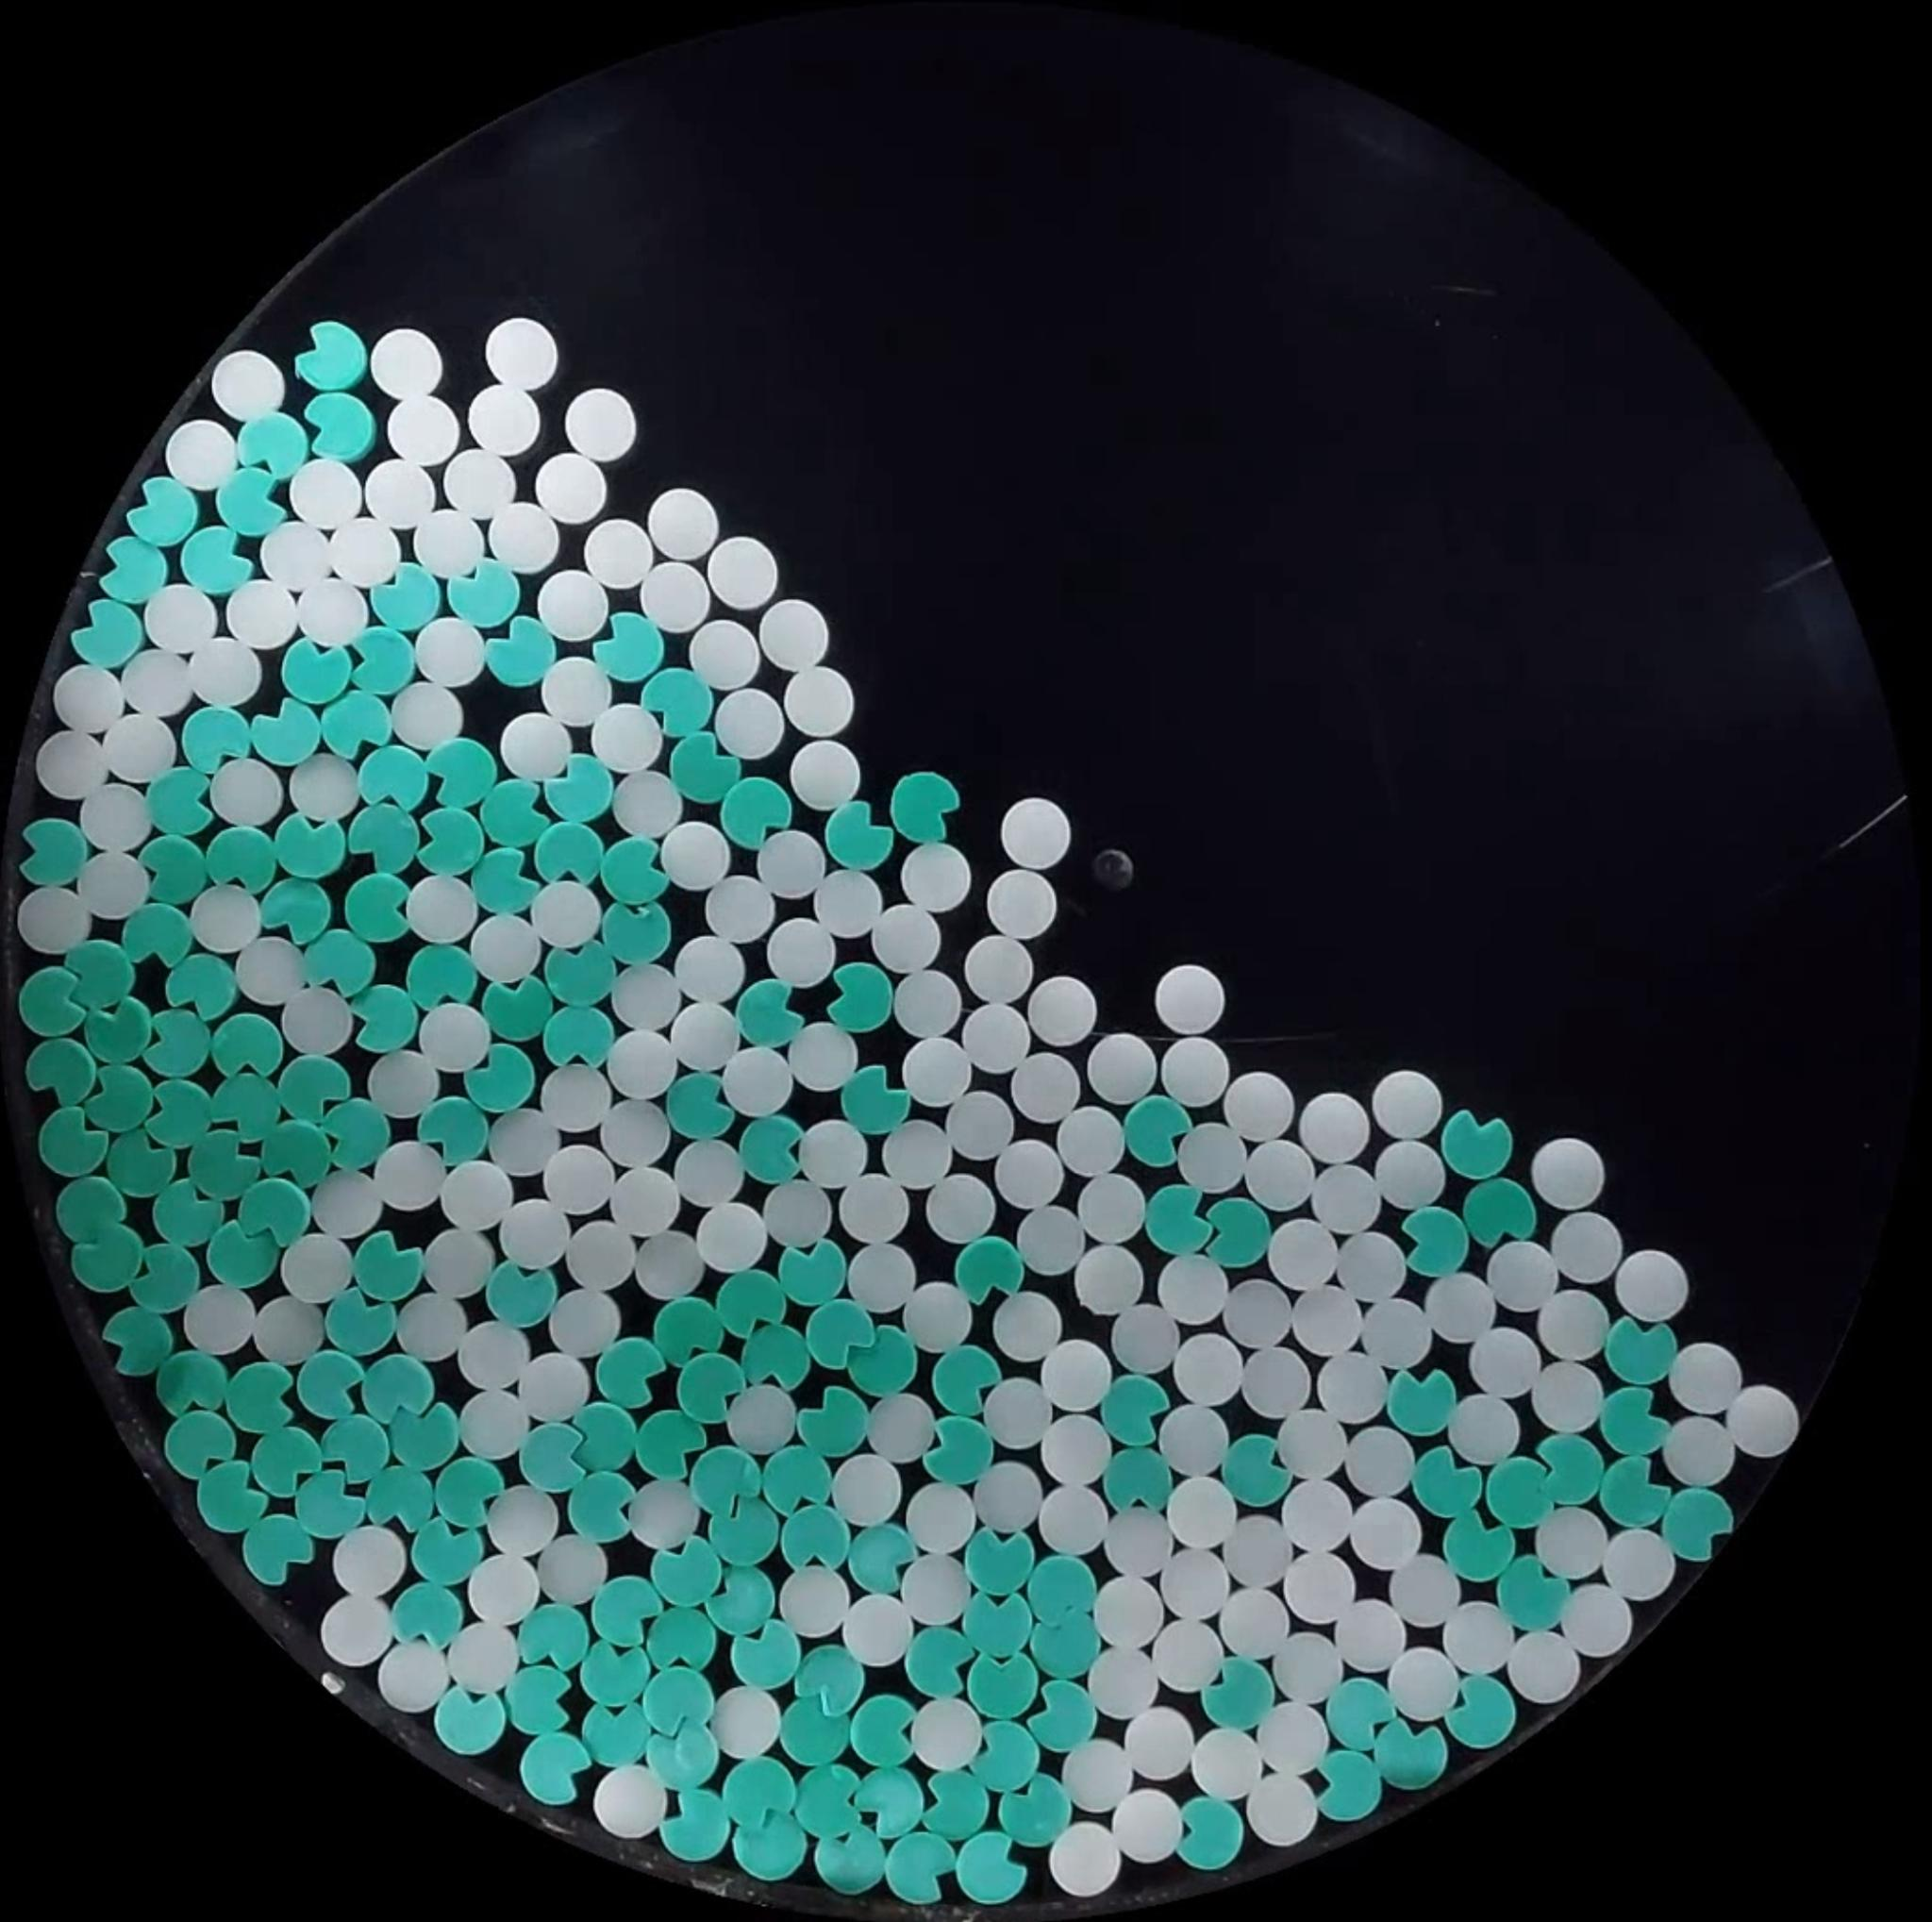disco-pmma: (1140, 1605, 1228, 1695), (1057, 1737, 1144, 1818), (1267, 1628, 1353, 1707), (1211, 1586, 1293, 1667), (1212, 1269, 1292, 1352), (1309, 1153, 1388, 1236), (1091, 1570, 1168, 1653), (1029, 1327, 1109, 1406), (1381, 1547, 1464, 1623), (1249, 1704, 1334, 1778), (1084, 1644, 1163, 1721), (1246, 1139, 1327, 1214), (1529, 1283, 1610, 1359), (1277, 1544, 1362, 1616), (1612, 1246, 1689, 1324), (1288, 1281, 1365, 1359), (1460, 1315, 1538, 1392), (1107, 1788, 1182, 1867), (1151, 1547, 1230, 1623), (1332, 1595, 1409, 1670), (593, 1762, 669, 1839), (318, 1589, 396, 1665), (1723, 1382, 1800, 1457), (1550, 1209, 1628, 1285), (1033, 1482, 1107, 1561), (904, 1281, 985, 1353), (1096, 1503, 1177, 1575), (1559, 1582, 1635, 1658), (1346, 1494, 1422, 1570), (1504, 1626, 1580, 1702), (1387, 1644, 1462, 1720), (484, 1484, 560, 1559), (366, 1045, 442, 1121), (607, 1026, 684, 1100), (375, 1639, 452, 1713), (1665, 1339, 1742, 1413), (35, 729, 113, 803), (1005, 1049, 1082, 1123), (1068, 1241, 1142, 1318), (980, 1373, 1054, 1450), (1267, 1216, 1344, 1290), (1080, 1028, 1160, 1100), (593, 1097, 674, 1167), (892, 1556, 973, 1626), (491, 1197, 574, 1265), (454, 1320, 530, 1394), (438, 1158, 514, 1232), (445, 1621, 521, 1695), (466, 1552, 542, 1626), (1529, 1135, 1605, 1209), (563, 387, 639, 461), (1047, 1820, 1121, 1896), (695, 1200, 771, 1274), (1659, 1413, 1735, 1487), (1246, 1771, 1320, 1846), (707, 1683, 783, 1757), (141, 583, 218, 655), (121, 648, 199, 720), (894, 966, 971, 1038), (899, 1033, 977, 1105), (1158, 1401, 1235, 1473), (1351, 1299, 1429, 1371), (183, 634, 262, 704), (674, 931, 753, 1001), (989, 1133, 1068, 1204), (760, 1183, 839, 1253), (862, 1397, 941, 1468), (644, 553, 713, 634), (542, 1142, 616, 1216), (1534, 1505, 1608, 1579), (1189, 1727, 1263, 1801), (1603, 1526, 1677, 1600), (841, 1591, 915, 1665), (486, 500, 560, 574), (1485, 1237, 1559, 1311), (716, 686, 790, 760), (1165, 1475, 1239, 1549), (76, 848, 150, 922), (1297, 1089, 1371, 1163), (707, 537, 781, 611), (781, 665, 855, 739), (707, 866, 781, 940), (1123, 1706, 1195, 1781), (707, 1688, 783, 1760), (99, 711, 174, 783), (538, 657, 614, 729), (278, 986, 354, 1058), (329, 1524, 405, 1596), (164, 419, 239, 491), (385, 392, 461, 465), (466, 384, 542, 456), (424, 1230, 500, 1302), (1318, 1348, 1390, 1424), (922, 1172, 999, 1243), (1274, 1403, 1344, 1480), (1226, 1514, 1297, 1591), (419, 1001, 493, 1074), (660, 820, 734, 892), (516, 1350, 589, 1422), (589, 701, 663, 773), (405, 873, 479, 945), (720, 1045, 794, 1118), (530, 878, 604, 950), (723, 1383, 797, 1456), (584, 517, 658, 590), (16, 884, 90, 956), (1221, 1070, 1295, 1142), (535, 451, 609, 523), (51, 665, 125, 737), (322, 517, 398, 588), (225, 579, 301, 649), (370, 327, 445, 398), (211, 350, 287, 421), (1072, 1170, 1147, 1241), (1237, 1352, 1313, 1422), (1443, 1596, 1513, 1672), (778, 1565, 850, 1637), (626, 1478, 699, 1551), (648, 488, 720, 560), (79, 780, 151, 852), (1160, 1035, 1232, 1107), (758, 598, 831, 671), (442, 449, 514, 521), (537, 569, 609, 641), (457, 1390, 530, 1463), (801, 1118, 873, 1190), (838, 1174, 910, 1246), (846, 1241, 918, 1313), (1376, 1142, 1448, 1214), (389, 681, 463, 752), (633, 1230, 707, 1301), (413, 618, 487, 688), (183, 1283, 257, 1353), (250, 1292, 324, 1362), (486, 317, 560, 387), (294, 577, 368, 648), (943, 1086, 1014, 1160), (232, 936, 308, 1005), (1446, 1397, 1522, 1466), (1418, 1274, 1496, 1341), (980, 1454, 1045, 1533), (765, 915, 838, 986), (790, 739, 862, 810), (468, 912, 540, 982), (500, 711, 572, 781), (413, 509, 486, 579), (535, 1533, 607, 1603), (999, 797, 1072, 868), (690, 618, 760, 690), (1371, 1068, 1443, 1139), (612, 767, 684, 838), (1056, 1104, 1126, 1176), (1154, 1251, 1226, 1322), (911, 1484, 982, 1556), (1341, 1420, 1411, 1493), (1336, 1230, 1406, 1302), (1283, 1480, 1353, 1552), (209, 757, 283, 825), (280, 1234, 354, 1302), (289, 461, 362, 530), (985, 869, 1059, 938), (375, 1139, 449, 1207), (482, 1111, 558, 1177), (959, 1005, 1036, 1070), (1026, 975, 1096, 1045), (266, 519, 336, 590), (911, 1697, 980, 1769), (190, 884, 262, 952), (289, 753, 361, 822), (364, 458, 436, 526), (567, 1218, 639, 1287), (315, 1163, 389, 1230), (540, 1065, 614, 1132), (885, 1121, 959, 1188), (961, 938, 1036, 1003), (1109, 1308, 1184, 1373), (811, 868, 882, 936), (757, 827, 827, 896), (1154, 963, 1225, 1031), (612, 966, 683, 1035), (787, 1021, 855, 1091), (834, 1457, 903, 1528), (1174, 1329, 1240, 1401), (901, 843, 970, 912), (878, 905, 947, 973), (1529, 1362, 1598, 1431), (616, 1167, 683, 1237), (674, 1142, 744, 1209), (992, 1294, 1065, 1359), (547, 1290, 621, 1353), (1049, 1415, 1112, 1486), (1179, 1121, 1246, 1186), (1019, 1207, 1082, 1276), (672, 1001, 737, 1065), (398, 1295, 466, 1355)
